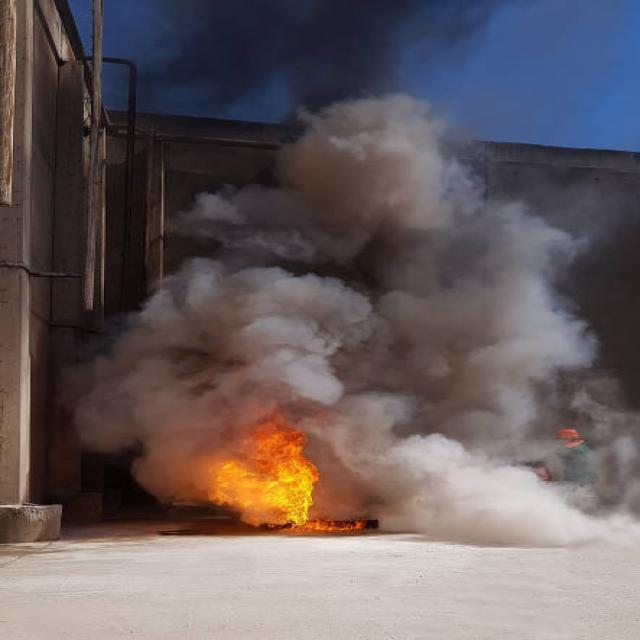Fire: (142, 404, 355, 536)
Smoke: (195, 110, 640, 542), (177, 0, 464, 146), (95, 320, 246, 463)
